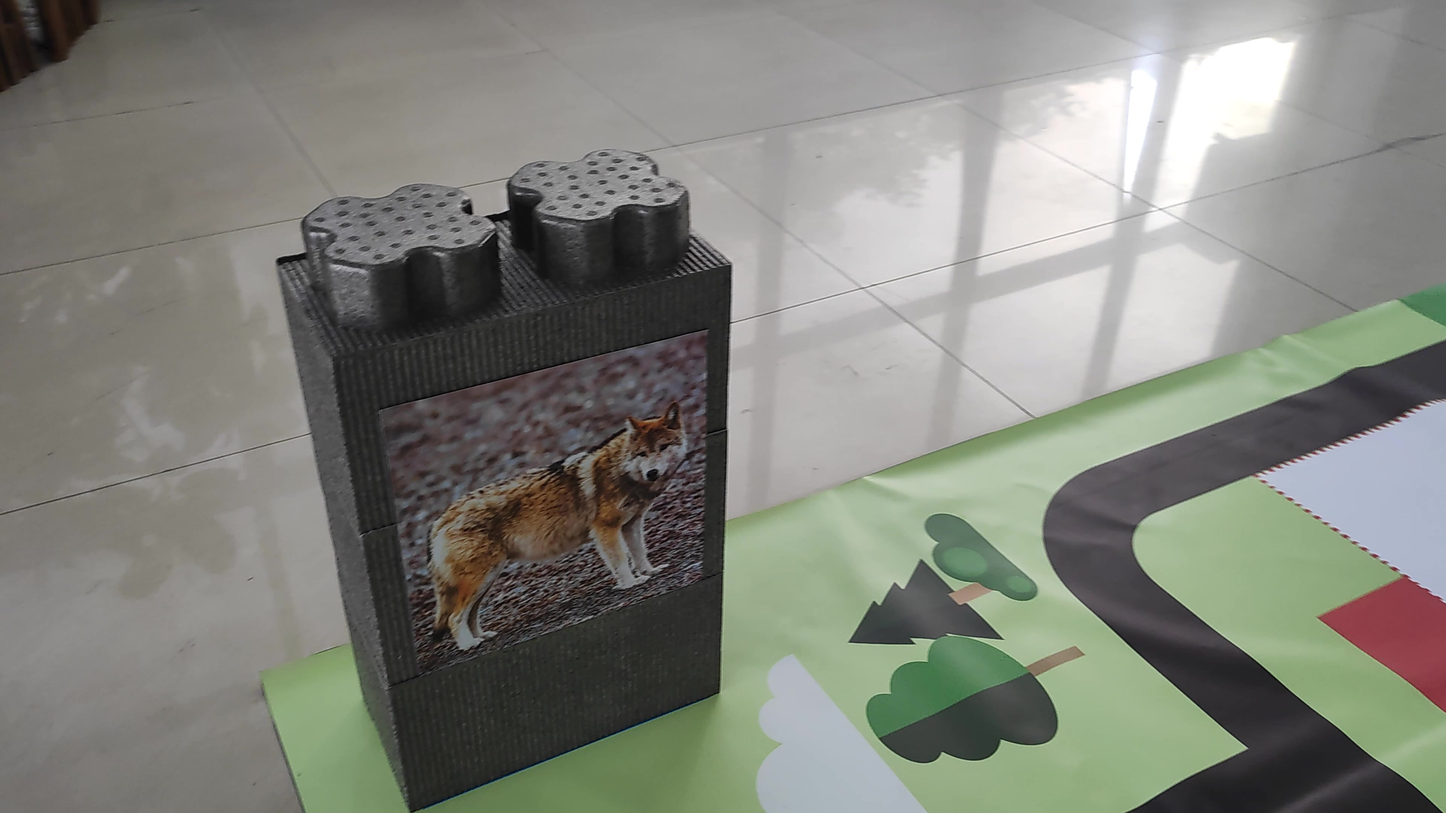wolf: (419, 389, 691, 666)
